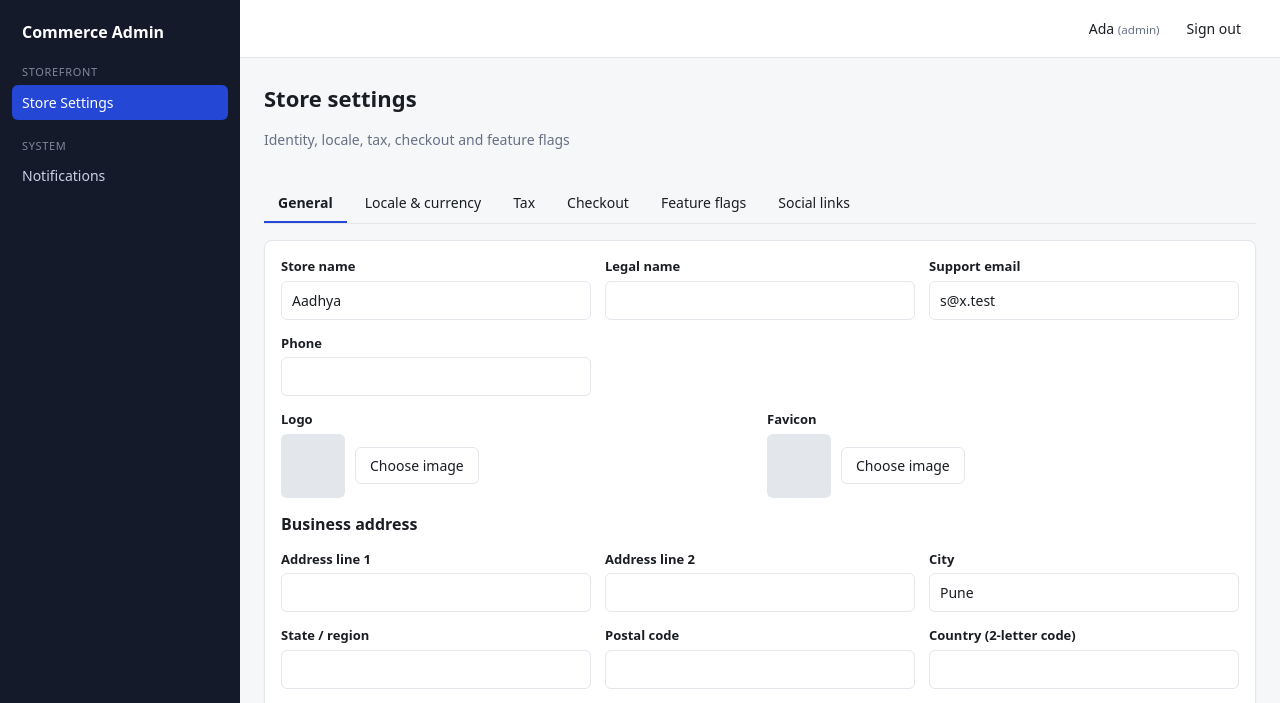
Test: store settings › validates client-side and maps API field errors
Replace the text in the field labelled "Support email" with "nope" at x=1084, y=300, box [929,280,1239,320]
(page scrolled)
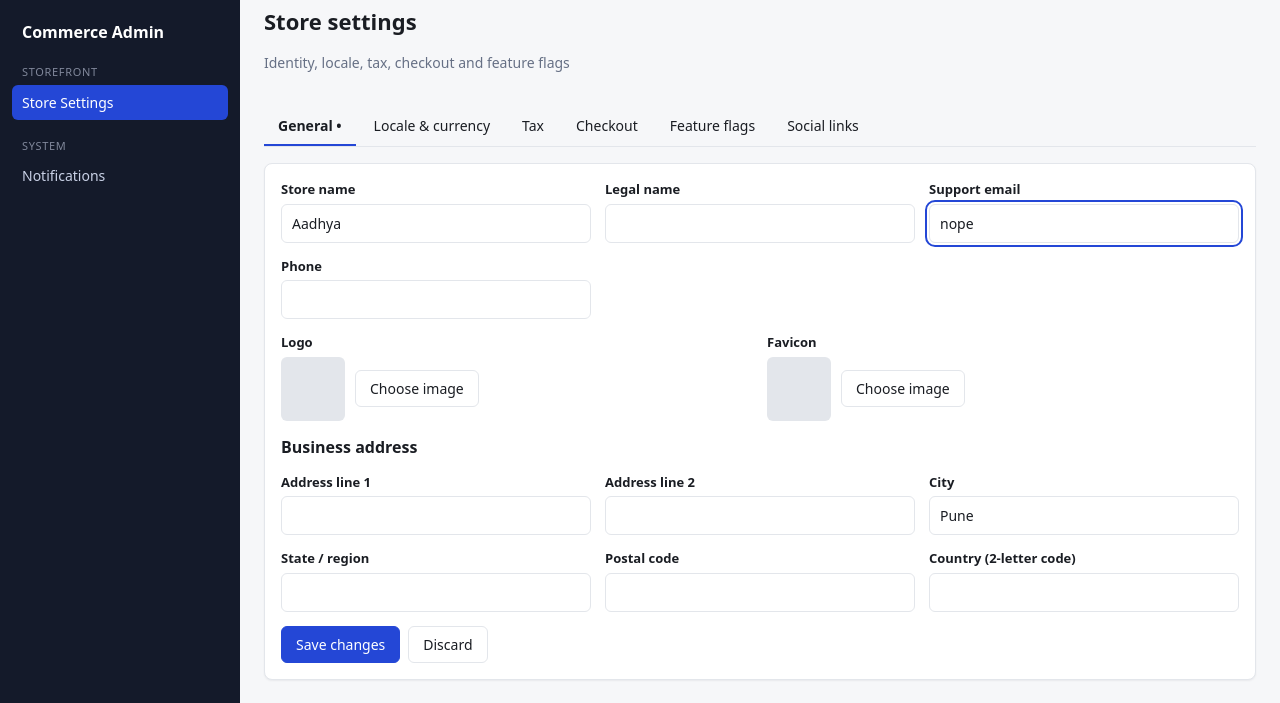
Click the button "Save changes" at x=341, y=644, box [281,626,400,662]
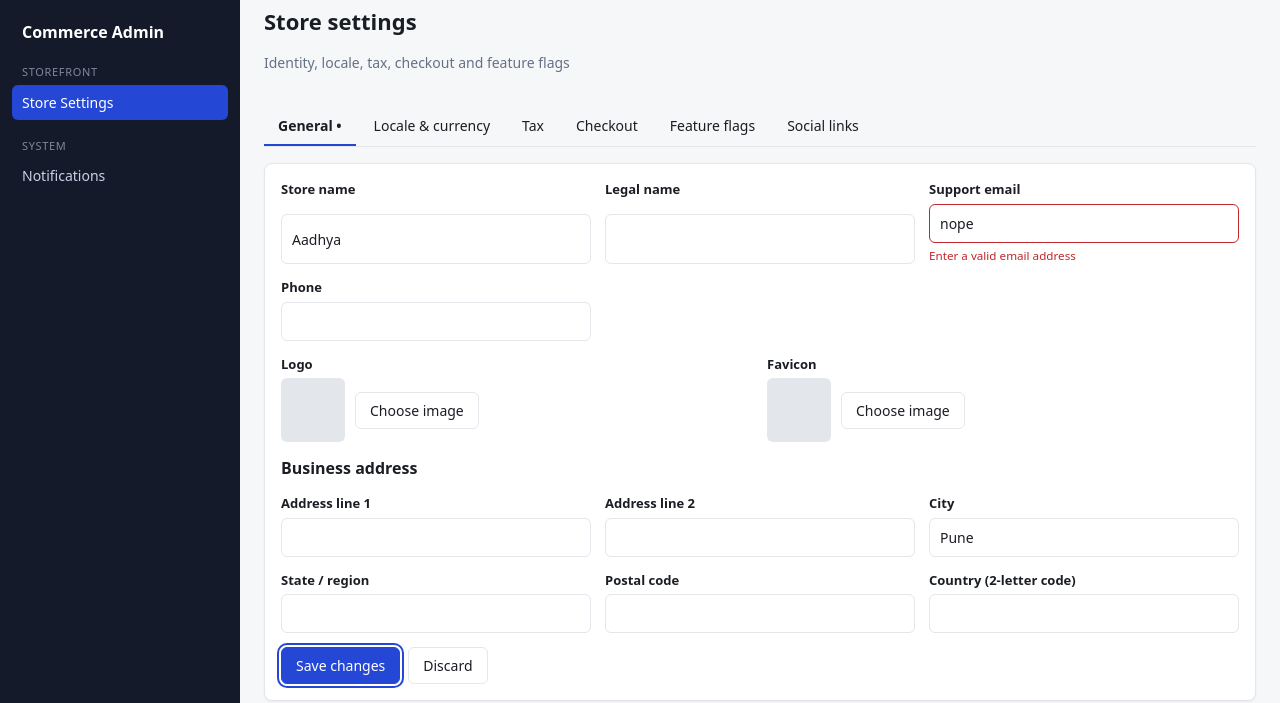
Expected: the text "Enter a valid email address" is shown, [929,248,1076,262]
Replace the text in the field labelled "Support email" with "ok@x.test" at x=1084, y=223, box [929,204,1239,242]
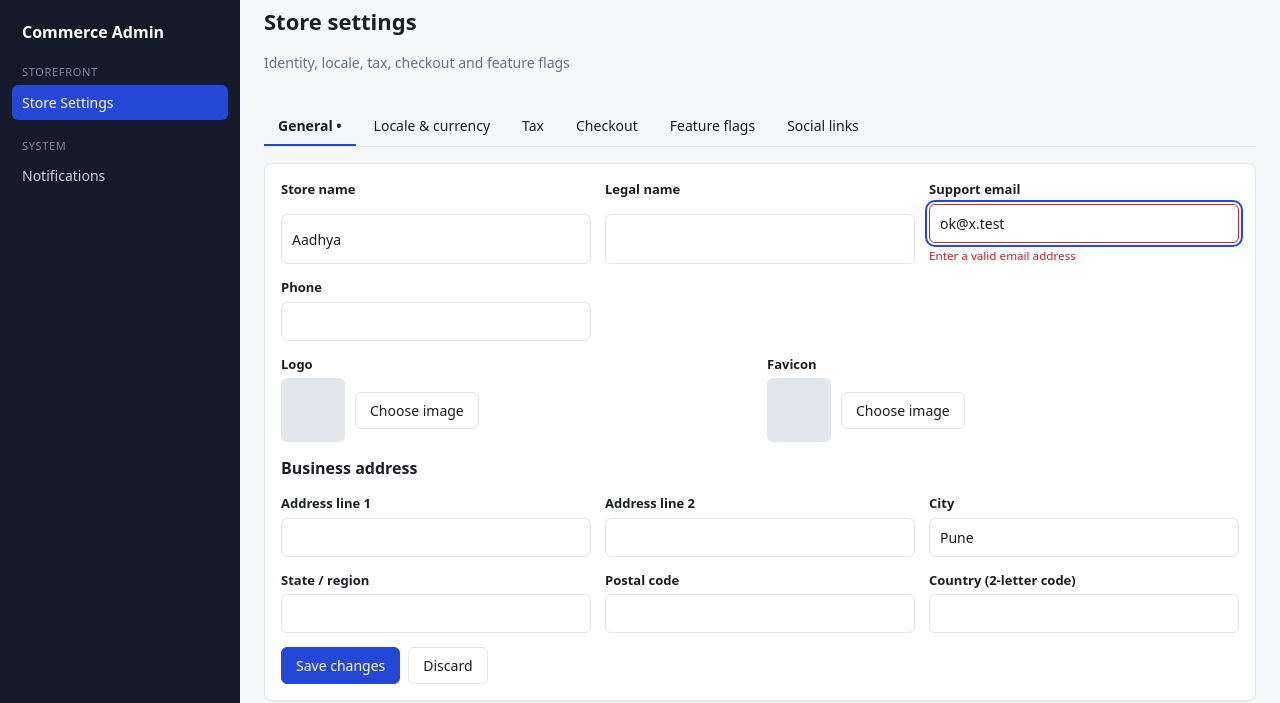
Click the button "Save changes" at x=341, y=666, box [281,647,400,684]
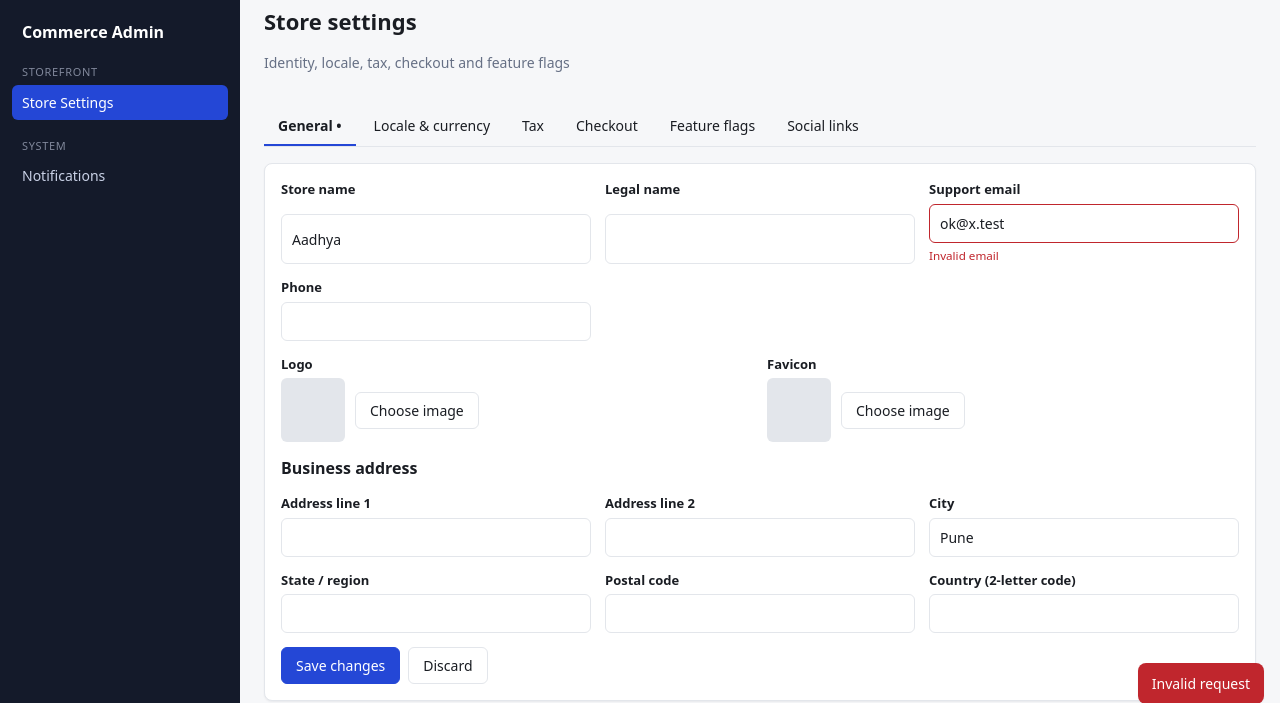
Expected: the text "Invalid email" is shown, [929,248,999,262]
